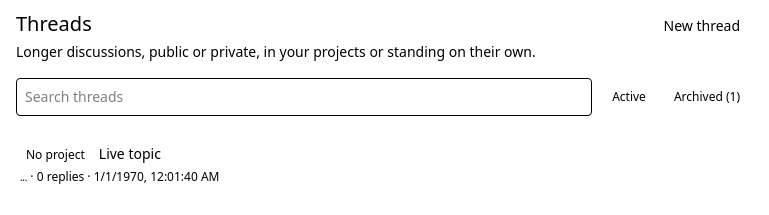
ThreadsView list › keeps archived threads out of the active list, under Archived, and in search
The width and height of the screenshot is (769, 215).
Step 1. Click the button "Archived (1)" → point(707, 97), box x1=662 y1=79 x2=752 y2=115
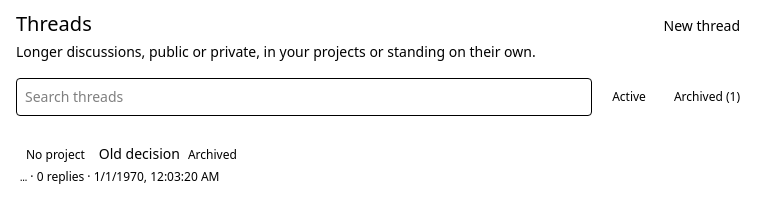
Now the button that starts with "No project" shows "Old decision", box x1=16 y1=132 x2=752 y2=198
Step 2. Click the button "Active" → point(629, 97), box x1=600 y1=79 x2=658 y2=115
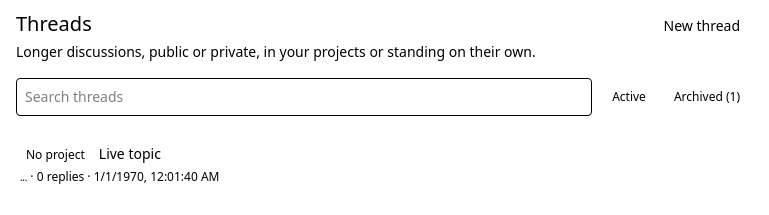
Step 3. Type "decision" into the search field labelled "Search threads" → point(304, 97), box x1=16 y1=78 x2=592 y2=116
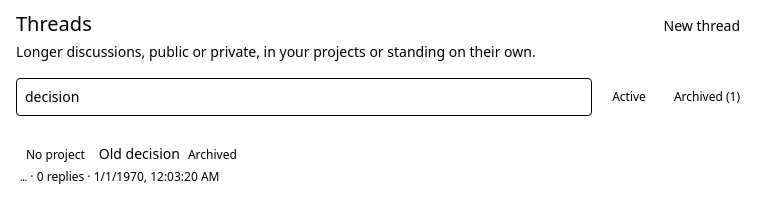
Now the button that starts with "No project" shows "Old decision", box x1=16 y1=132 x2=752 y2=198
